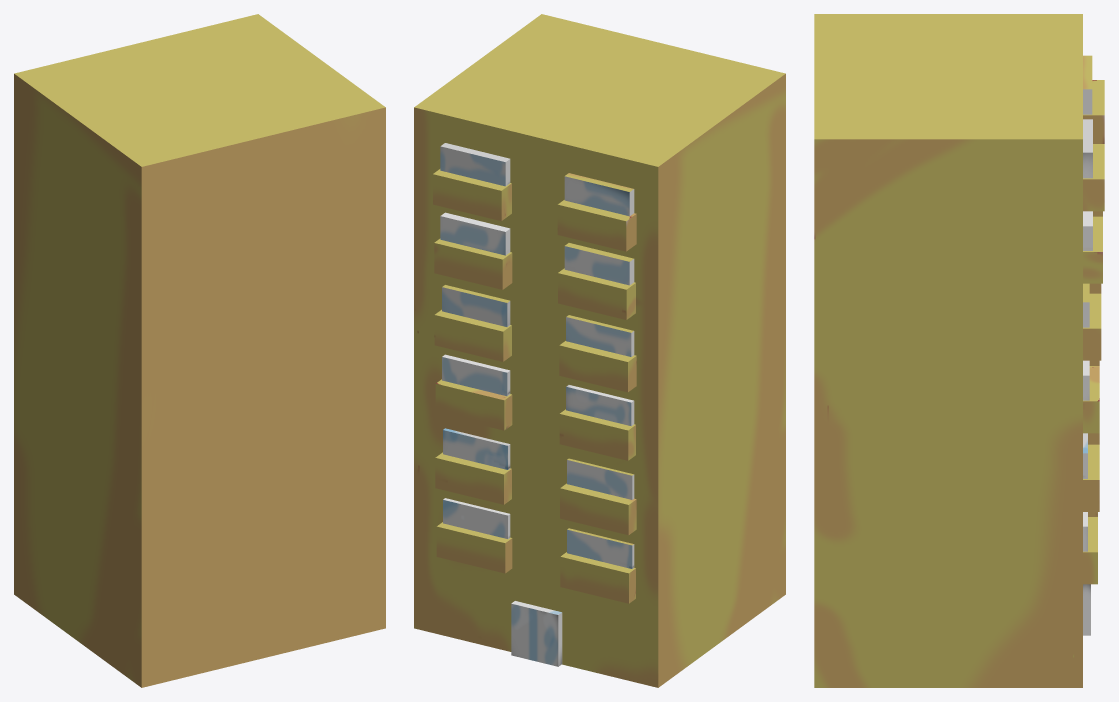
The model's file is predio1becoamarelo.fbx.
The picture shows the model from 3 angles, left to right: view 1: azimuth 30°, elevation 25°; view 2: azimuth 150°, elevation 25°; view 3: azimuth 270°, elevation 25°; orthographic projection. The views are drawn at different scales.
Parts seen in each view (by area): view 1: Cube; view 2: Cube; view 3: Cube.
Part boxes in pixels (bbox=[...]): Cube: bbox=[14, 14, 385, 687]; Cube: bbox=[414, 14, 785, 687]; Cube: bbox=[814, 14, 1104, 687].
Bounding box in the file's own units: 565 × 1153 × 553.
